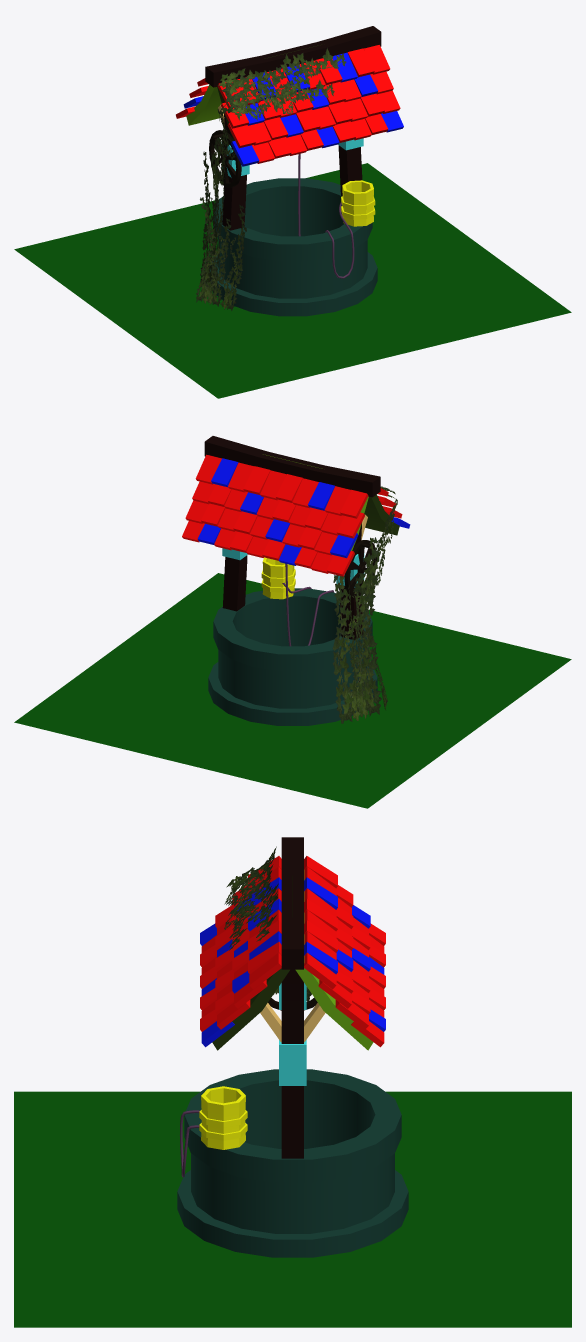
The model's file is Kolodets.fbx.
3 views of the same model, one above another, from view 1: azimuth 30°, elevation 25°; view 2: azimuth 150°, elevation 25°; view 3: azimuth 270°, elevation 25° (orthographic). The views are drawn at different scales.
Visible parts, largest first — view 1: Plane002, Kolodets, Plane001, Colona 01, Vedro, Koleso, Roof 02, Line001, Box050; view 2: Plane002, Kolodets, Plane001, Colona 01, Vedro, Koleso, Roof 01, Box026, Box010, Box018, Box014, Box022 (+1 smaller); view 3: Plane002, Kolodets, Colona 01, Vedro, Plane001, Metal shov 01, Roof 02, Roof 01, Box091.
Boxes of the visible parts, left/top/right/bottom form: Plane002: left=14, top=163, right=571, bottom=398; Kolodets: left=209, top=178, right=377, bottom=316; Plane001: left=196, top=48, right=346, bottom=310; Colona 01: left=205, top=26, right=381, bottom=230; Vedro: left=341, top=180, right=375, bottom=226; Koleso: left=209, top=130, right=241, bottom=187; Roof 02: left=186, top=85, right=221, bottom=125; Line001: left=298, top=153, right=354, bottom=278; Box050: left=347, top=48, right=374, bottom=77; Plane002: left=14, top=573, right=571, bottom=808; Kolodets: left=208, top=588, right=377, bottom=725; Plane001: left=332, top=486, right=397, bottom=723; Colona 01: left=204, top=436, right=380, bottom=640; Vedro: left=261, top=557, right=295, bottom=599; Koleso: left=344, top=540, right=376, bottom=597; Roof 01: left=364, top=494, right=399, bottom=535; Box026: left=340, top=489, right=368, bottom=518; Box010: left=211, top=458, right=238, bottom=487; Box018: left=275, top=474, right=302, bottom=502; Box014: left=243, top=466, right=270, bottom=494; Box022: left=308, top=482, right=334, bottom=510; Plane002: left=14, top=1091, right=571, bottom=1327; Kolodets: left=177, top=1069, right=408, bottom=1257; Colona 01: left=281, top=837, right=303, bottom=1158; Vedro: left=199, top=1086, right=247, bottom=1149; Plane001: left=224, top=846, right=311, bottom=1001; Metal shov 01: left=279, top=983, right=306, bottom=1085; Roof 02: left=295, top=870, right=373, bottom=1050; Roof 01: left=212, top=876, right=292, bottom=1050; Box091: left=260, top=1003, right=325, bottom=1042.
Bounding box in the file's own units: 200 × 139 × 200.
